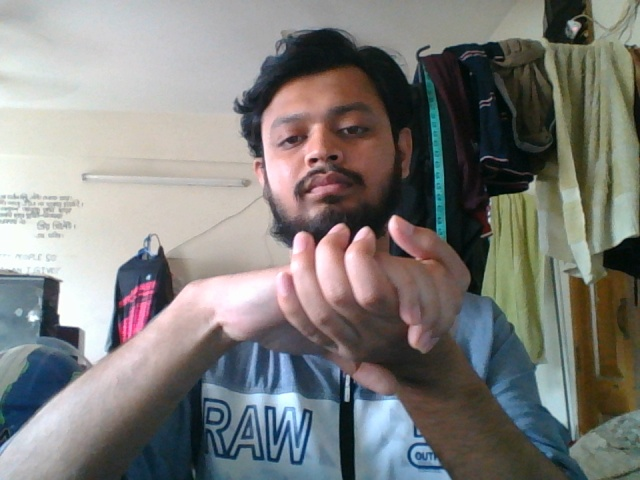bondhu: (115, 209, 564, 418)
